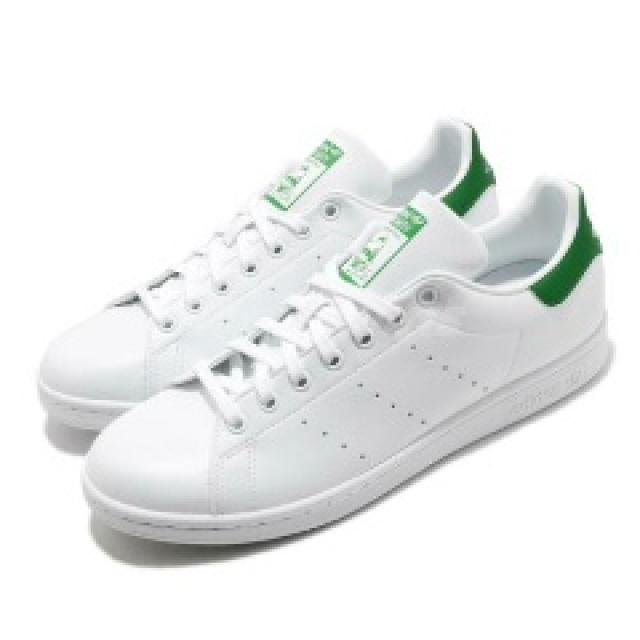shoes: (86, 176, 619, 558), (34, 96, 503, 406)
